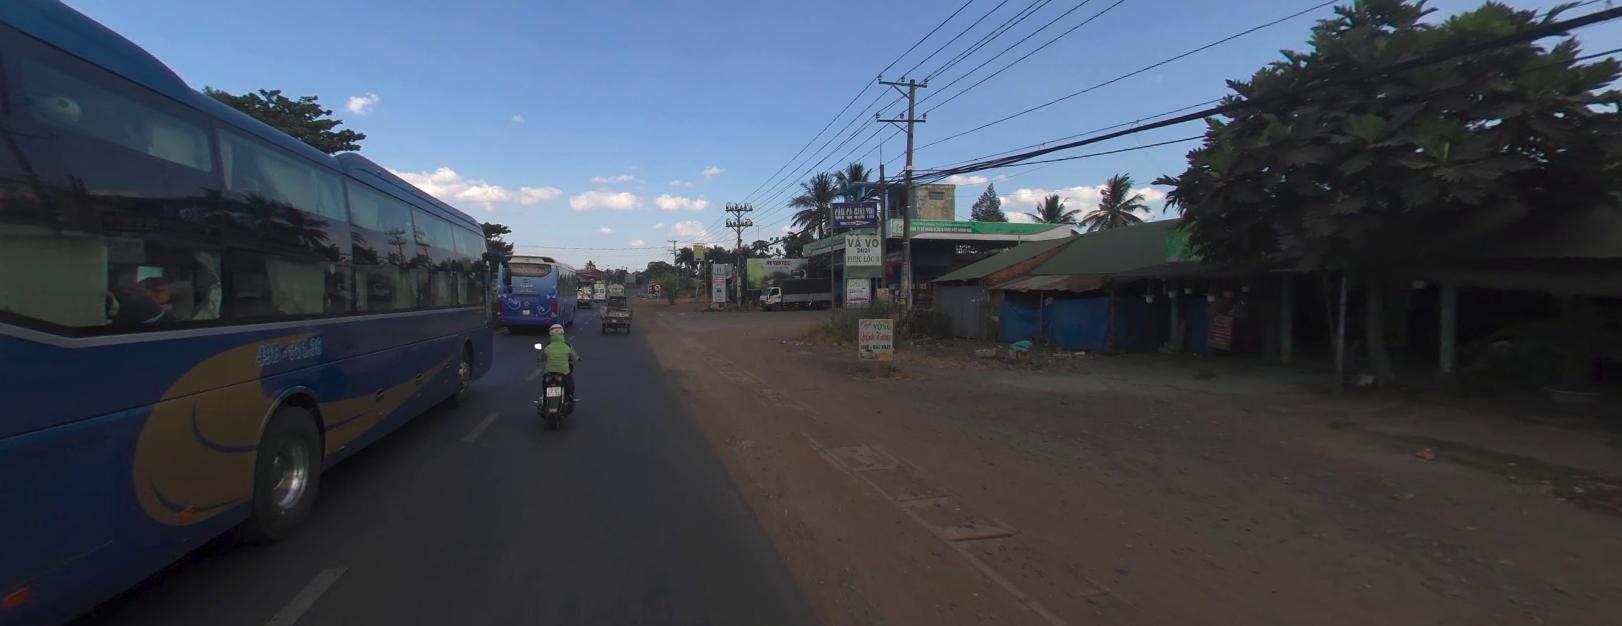Cam re: (653, 282, 660, 290)
